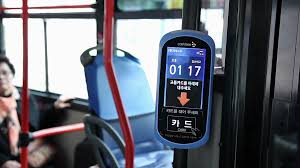terminal: (152, 25, 215, 150)
